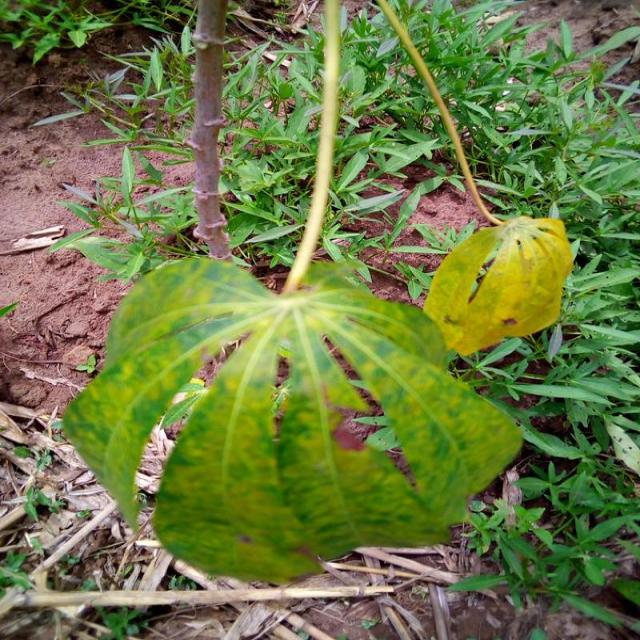cassava leaf: (62, 252, 524, 583), (422, 214, 574, 358)
